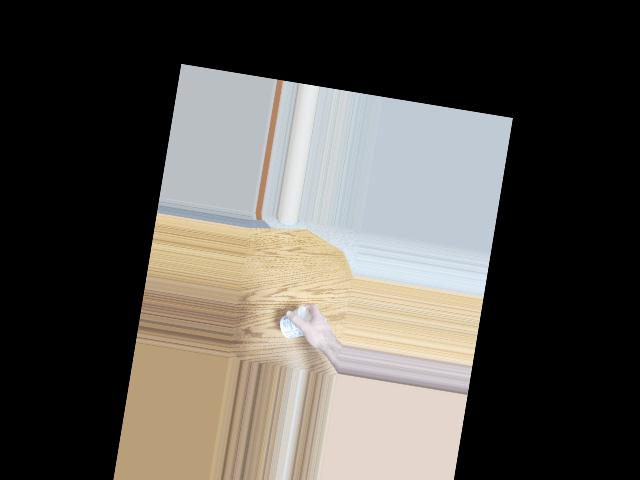cotage: (278, 304, 315, 343)
